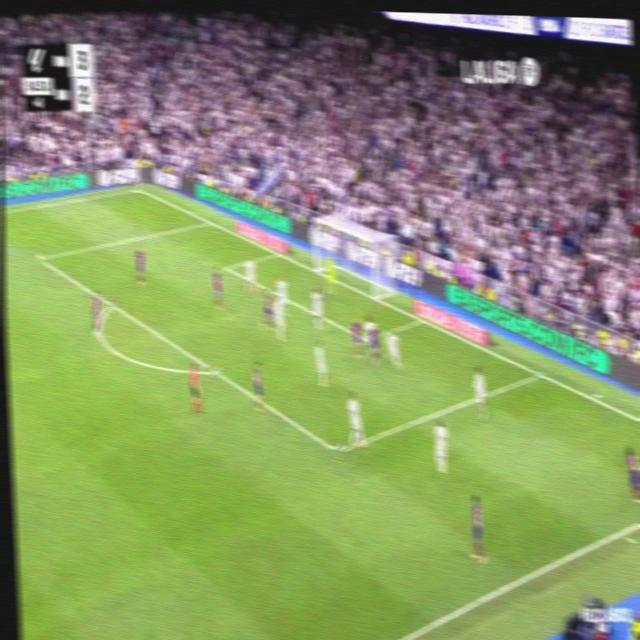bigarea_bottom_inner: (330, 439, 343, 463)
bigarea_bottom_outter: (533, 364, 544, 381)
bigarea_top_inner: (33, 248, 44, 267)
bigarea_top_outter: (203, 214, 213, 227)
bottom_arc_area_intersection: (206, 360, 221, 379)
corner: (133, 182, 143, 195)
smallarea_top_inner: (223, 261, 230, 273)
top_arc_area_intersection: (105, 295, 116, 312)
